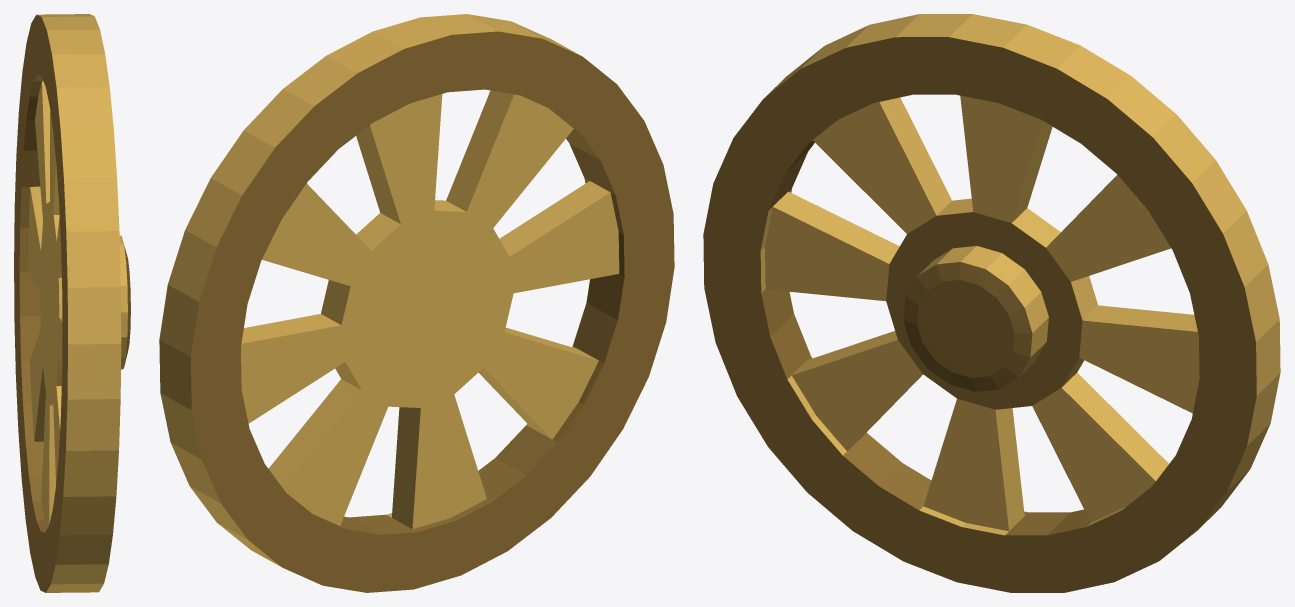
File: coleso 2.fbx
3 renders of one model, left to right at view 1: azimuth 30°, elevation 25°; view 2: azimuth 150°, elevation 25°; view 3: azimuth 270°, elevation 25°, orthographic. The views are drawn at different scales.
Parts seen in each view (by area): view 1: Cylinder.011; view 2: Cylinder.011; view 3: Cylinder.011.
Boxes of the visible parts, left/top/right/bottom form: Cylinder.011: left=14, top=14, right=130, bottom=592; Cylinder.011: left=159, top=14, right=674, bottom=592; Cylinder.011: left=703, top=14, right=1280, bottom=592.
Bounding box in the file's own units: 58.42 × 115 × 109.
